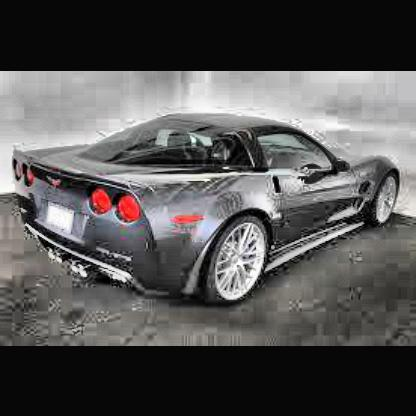Chevrolet Corvette ZR1 2012: (15, 114, 402, 302)
